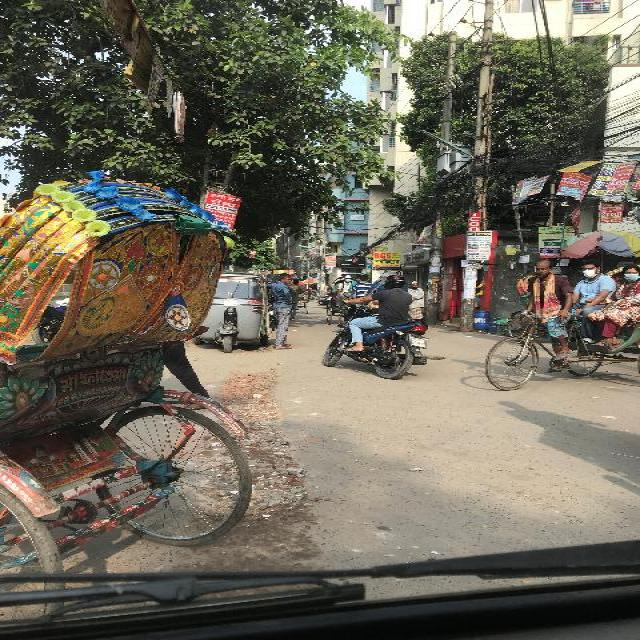bike: (322, 303, 429, 381)
vehicle: (1, 177, 193, 587), (484, 259, 638, 395), (193, 273, 273, 355), (331, 278, 356, 305), (317, 296, 330, 307)
